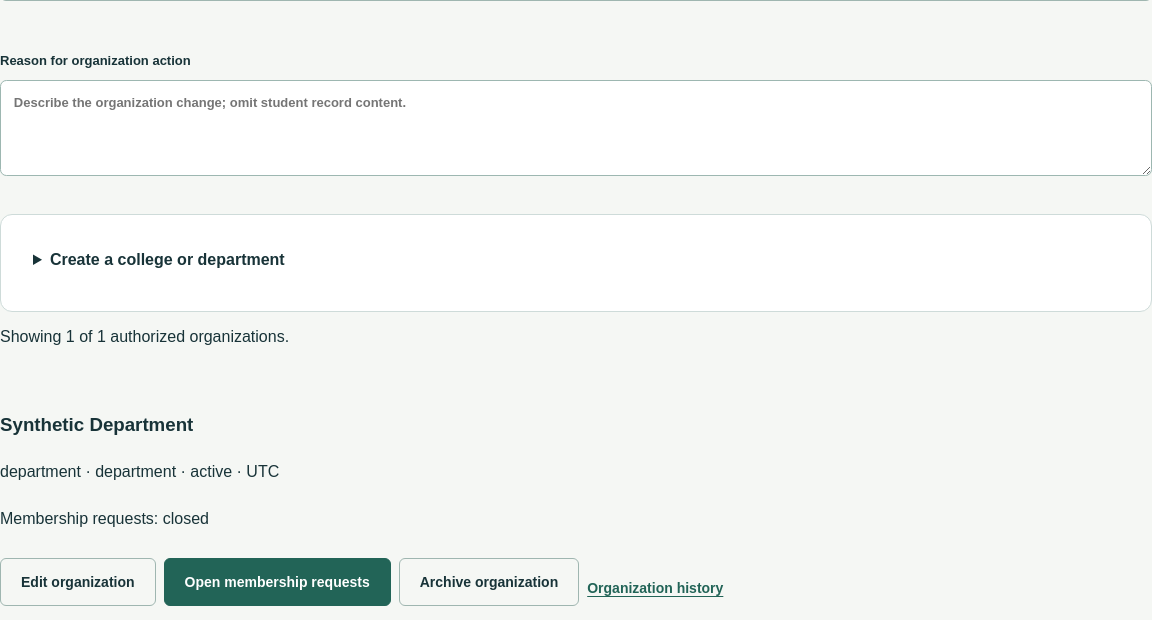
discards stale edits and presents the server conflict
(page scrolled)
Click the button "Edit organization": point(78, 582) [0, 558, 156, 606]
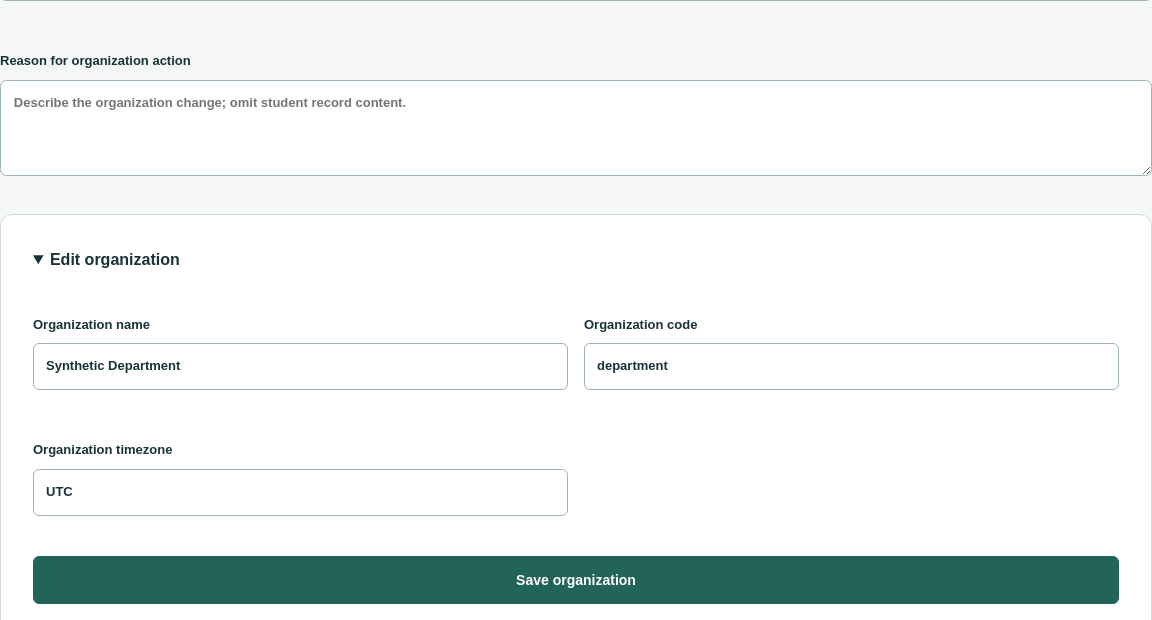
Replace the text in the text box labelled "Reason for organization action" with "Synthetic edit": point(576, 128) [0, 80, 1151, 176]
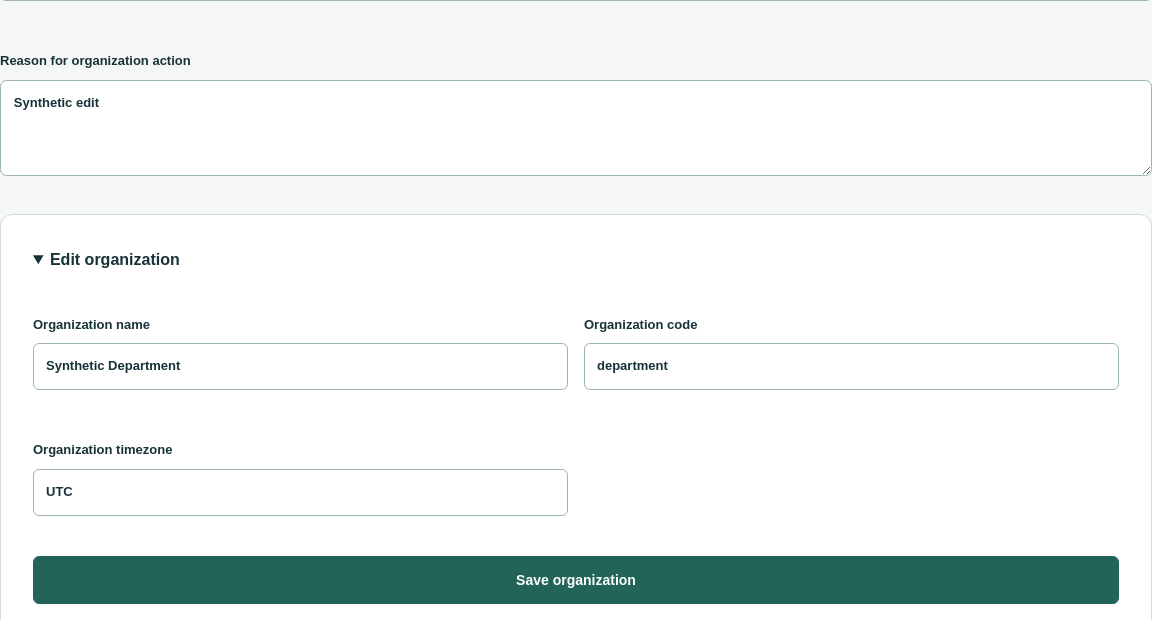
Click the button "Save organization": point(576, 580) [33, 556, 1119, 604]
(page scrolled)
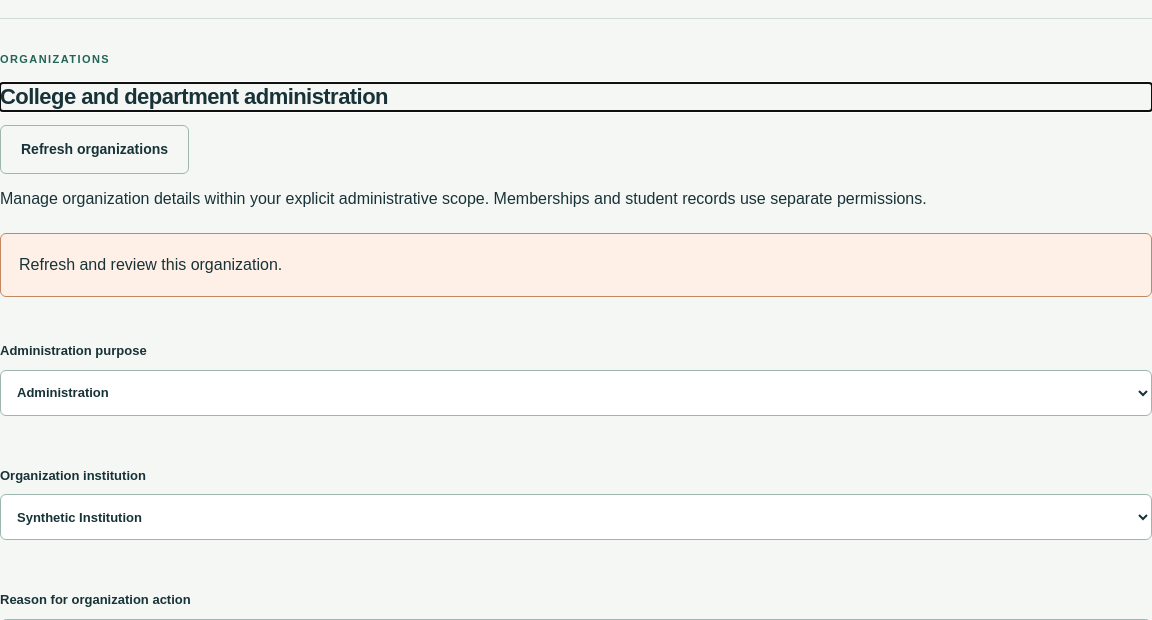
Now the message named "Organization error" shows "Refresh and review", box [19, 256, 282, 273]
Now the button "Save organization" is gone
